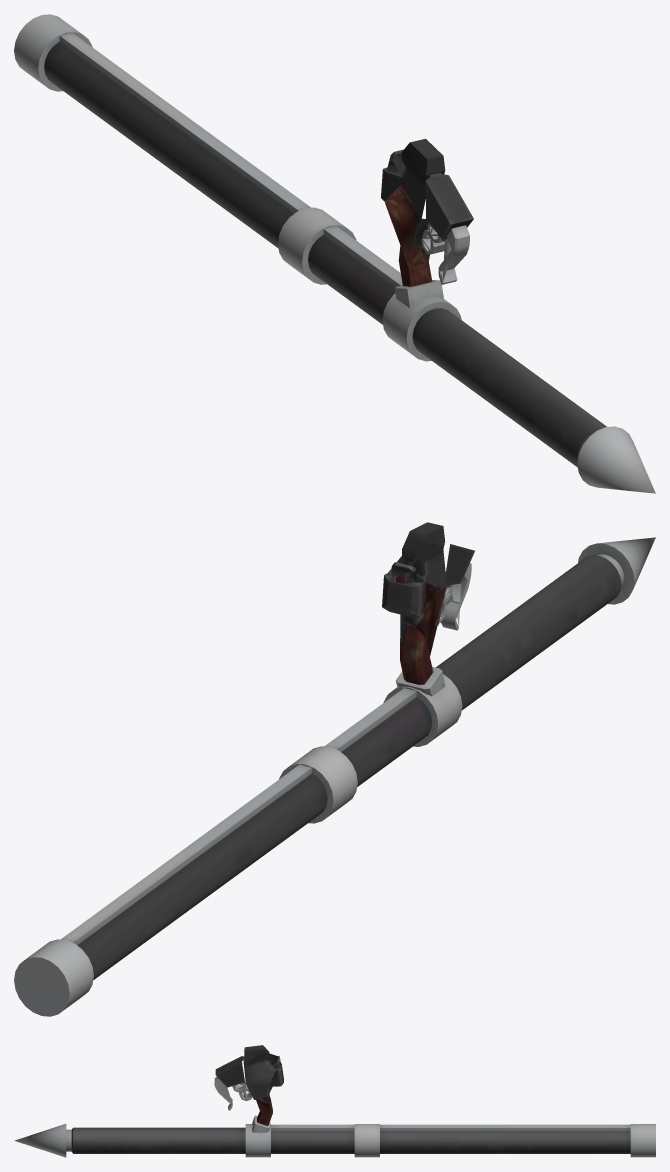
Rendered from item_rpg_spear.glb.
3 renders of one model, top to bottom at view 1: azimuth 30°, elevation 25°; view 2: azimuth 150°, elevation 25°; view 3: azimuth 270°, elevation 25°, orthographic. The views are drawn at different scales.
Visible parts, largest first — view 1: RPG_AOTLauncher, RPG_AOTSpear; view 2: RPG_AOTLauncher, RPG_AOTSpear; view 3: RPG_AOTLauncher, RPG_AOTSpear.
Boxes of the visible parts, left/top/right/bottom form: RPG_AOTLauncher: left=14, top=14, right=606, bottom=467; RPG_AOTSpear: left=577, top=426, right=655, bottom=493; RPG_AOTLauncher: left=14, top=522, right=621, bottom=1016; RPG_AOTSpear: left=578, top=537, right=655, bottom=604; RPG_AOTLauncher: left=71, top=1045, right=655, bottom=1157; RPG_AOTSpear: left=14, top=1124, right=71, bottom=1157.
Bounding box in the file's own units: 0.0769 × 0.2683 × 1.43.
1 material, 1 textured.
